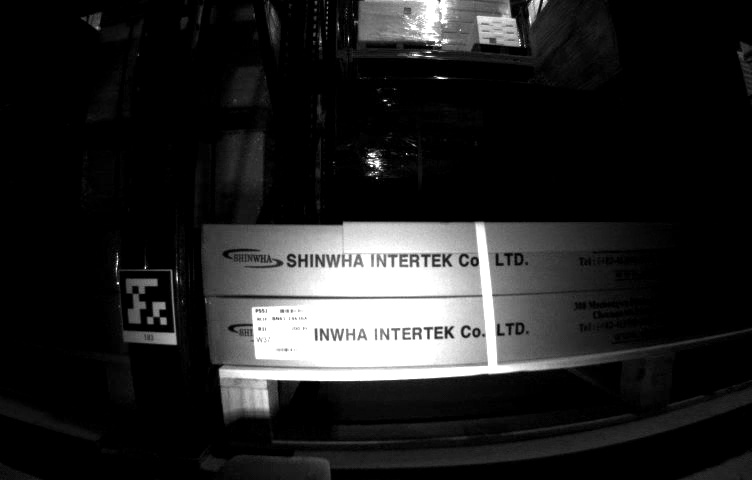True Barcode: (251, 304, 316, 363)
